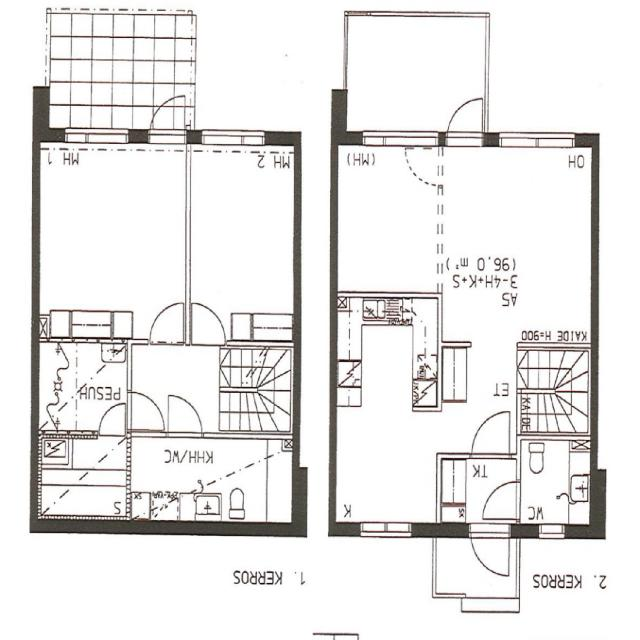door: (466, 523, 516, 582), (464, 404, 516, 460), (161, 389, 209, 437), (444, 90, 486, 144), (478, 475, 524, 523), (126, 385, 169, 435), (144, 296, 188, 344), (401, 140, 443, 190), (186, 296, 228, 345), (146, 94, 188, 143), (93, 398, 130, 438)
window: (494, 126, 581, 152), (53, 127, 134, 153), (195, 124, 270, 152), (356, 125, 439, 150), (352, 517, 419, 546), (534, 522, 569, 542)
zone: (438, 140, 596, 350), (34, 141, 189, 341), (334, 306, 442, 534), (185, 144, 299, 342), (334, 139, 442, 298), (129, 436, 296, 524), (34, 432, 132, 524), (37, 339, 129, 436), (518, 436, 594, 529), (440, 344, 517, 402), (469, 525, 513, 579)
